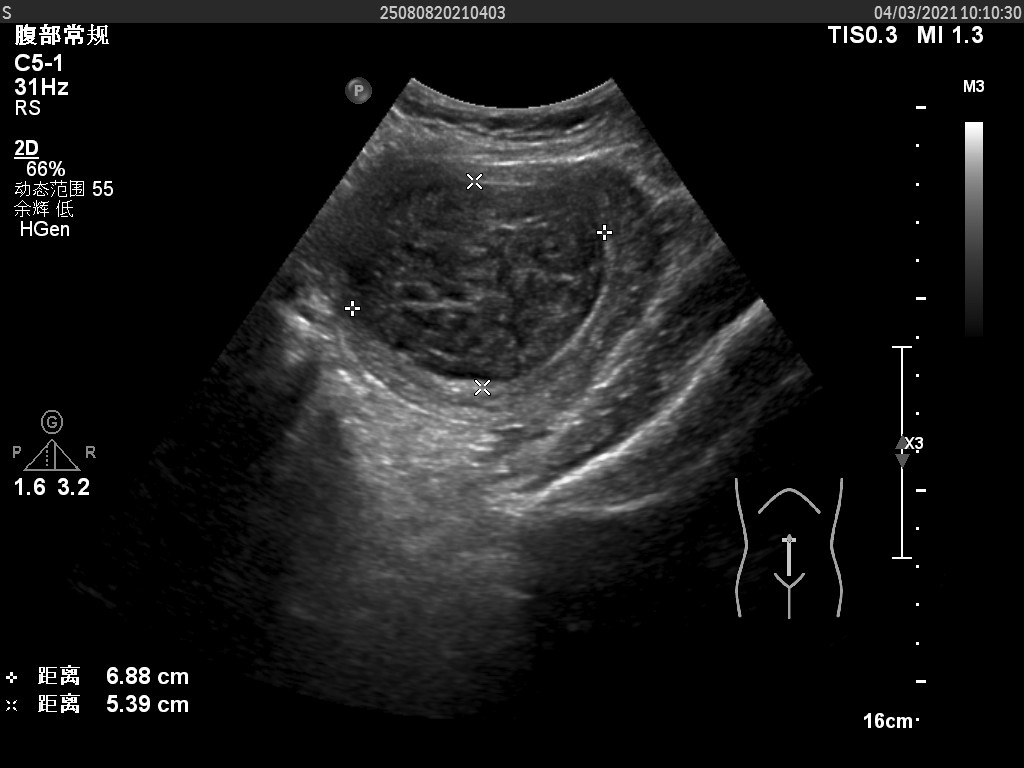肌瘤: (353, 174, 600, 382)
